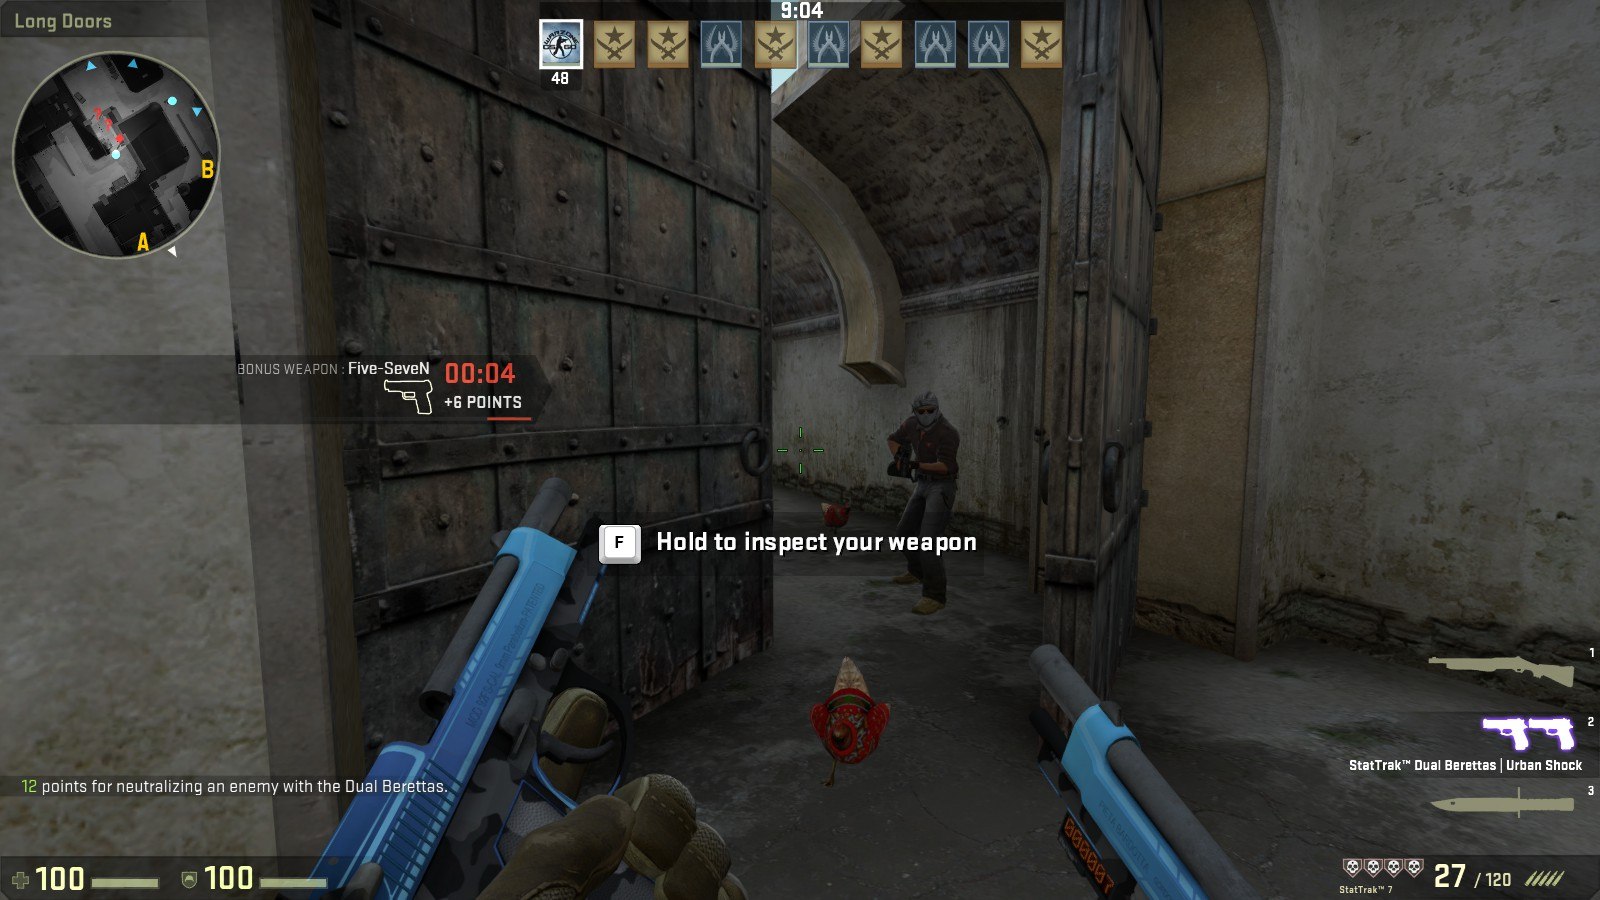t: (887, 391, 956, 614)
th: (908, 390, 947, 429)
